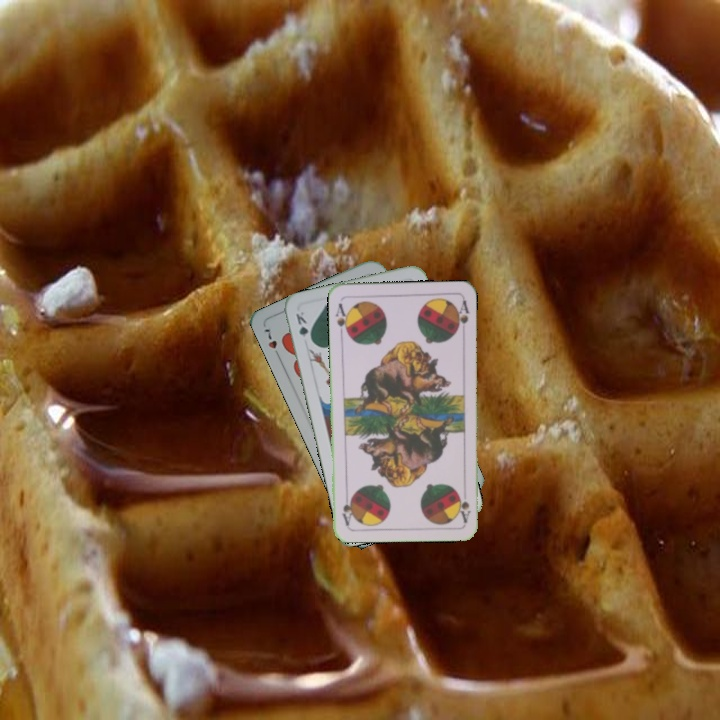GK: (292, 307, 315, 346)
H7: (259, 325, 283, 361)
SA: (332, 299, 352, 338), (455, 489, 473, 525)
